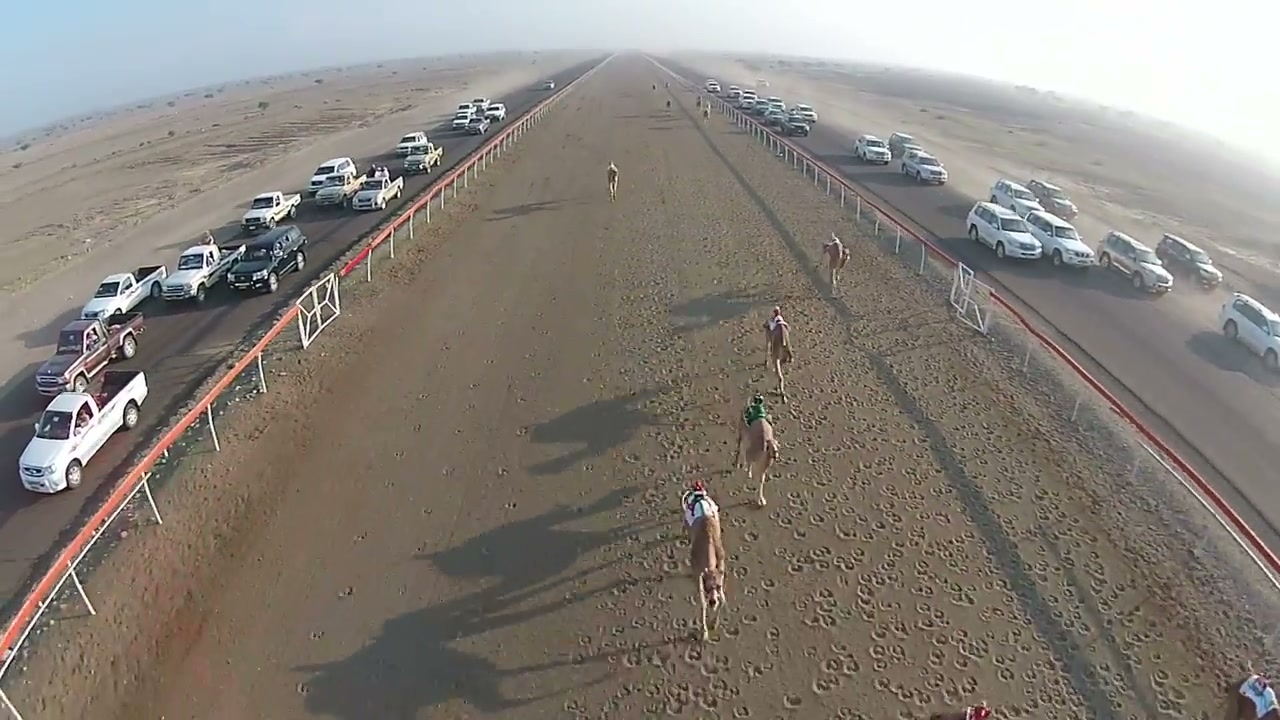animal_footprint: (784, 284, 1204, 700), (620, 358, 753, 719)
